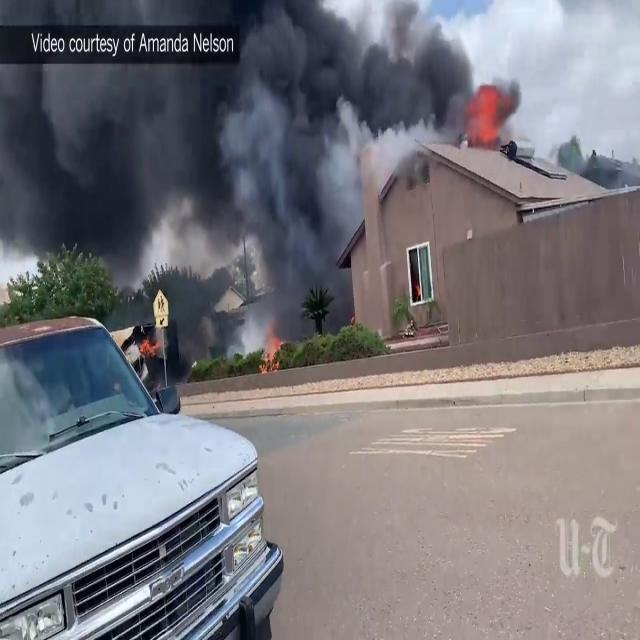Fire: (469, 84, 502, 150)
Smoke: (0, 0, 357, 316), (256, 0, 522, 169)
